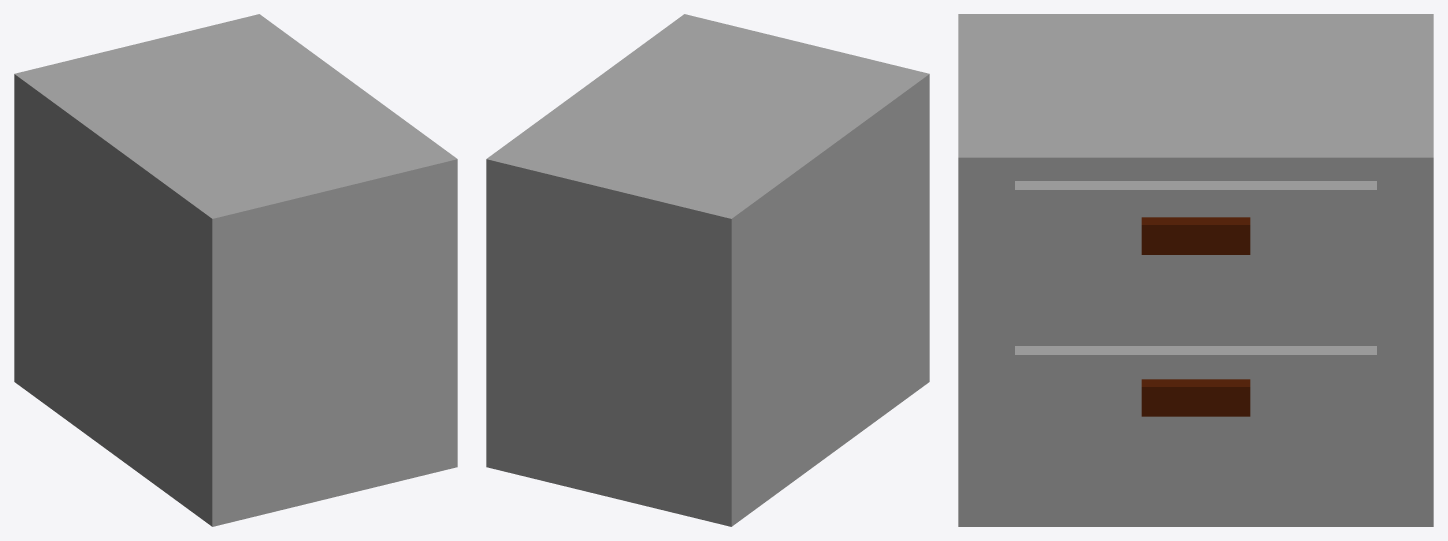
The model's file is SideDesk.fbx.
3 renders of one model, left to right at view 1: azimuth 30°, elevation 25°; view 2: azimuth 150°, elevation 25°; view 3: azimuth 270°, elevation 25°, orthographic. The views are drawn at different scales.
Visible parts, largest first — view 1: SideDesk; view 2: SideDesk; view 3: SideDesk.
Boxes of the visible parts, bbox=[...] form: SideDesk: bbox=[14, 14, 457, 526]; SideDesk: bbox=[486, 14, 929, 526]; SideDesk: bbox=[958, 14, 1433, 526].
Bounding box in the file's own units: 55.83 × 60 × 70.
